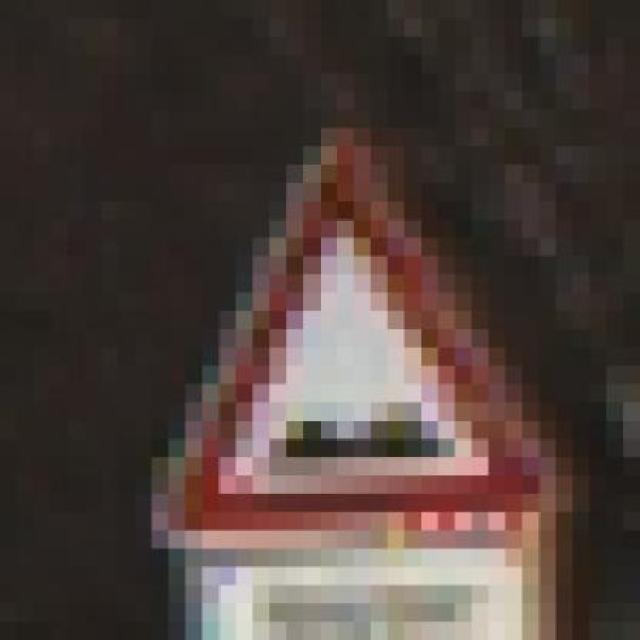Uneven Road: (152, 110, 573, 567)
